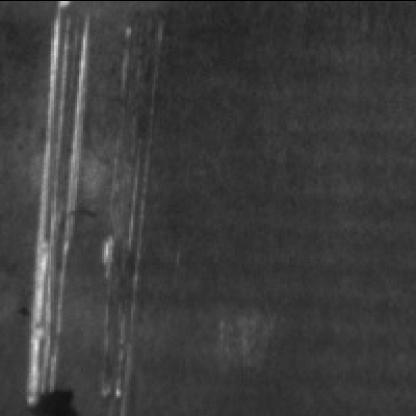scratches: (28, 0, 96, 397), (104, 151, 152, 393)
